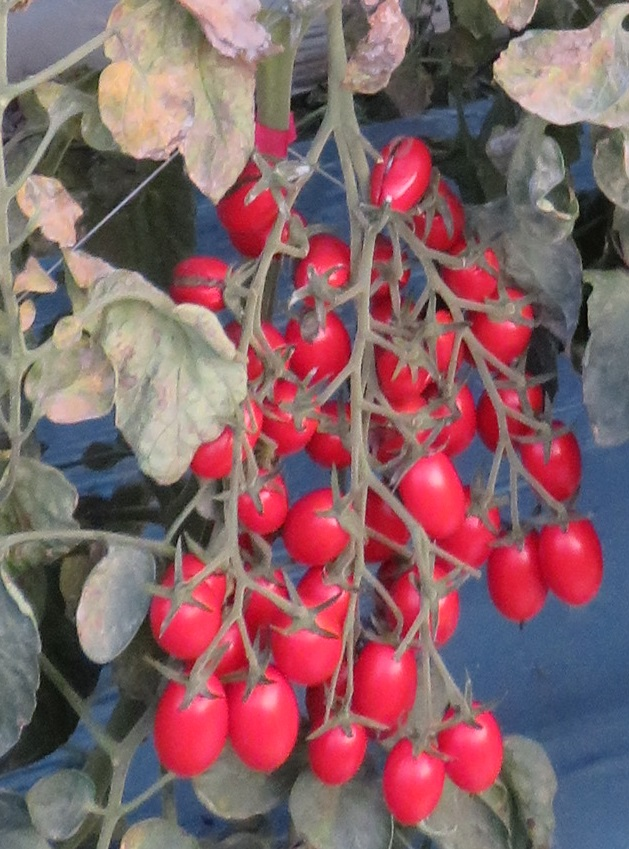red: (152, 662, 227, 787), (230, 657, 300, 777), (532, 513, 608, 608), (140, 577, 220, 663), (435, 697, 503, 798), (396, 452, 469, 546), (281, 486, 362, 569), (352, 639, 416, 736), (272, 609, 344, 690), (385, 733, 443, 832), (488, 529, 545, 619), (368, 133, 430, 215), (527, 422, 588, 504), (306, 711, 366, 786), (292, 241, 352, 308), (472, 293, 530, 359), (236, 466, 290, 536), (292, 318, 352, 380), (213, 180, 282, 231), (176, 253, 235, 311), (440, 237, 497, 295)
